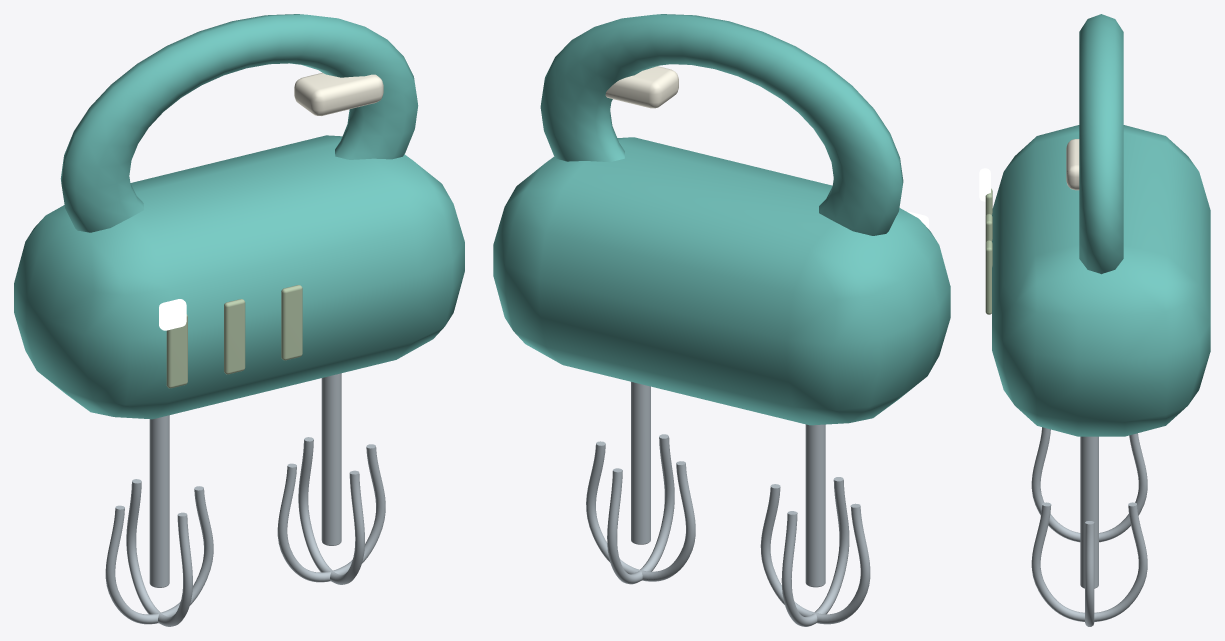
The model's file is kitchenMixerHand.glb.
3 renders of one model, left to right at view 1: azimuth 30°, elevation 25°; view 2: azimuth 150°, elevation 25°; view 3: azimuth 270°, elevation 25°, orthographic. The views are drawn at different scales.
Visible parts, largest first — view 1: Hand mixer motor housing, Mixer carry handle, Beater shaft, Beater shaft.001, Hand mixer speed switch, Beater loop.001, Beater loop.003, Beater loop.002, Beater loop, Mixer ventilation slot.001, Mixer ventilation slot.002, Mixer ventilation slot (+1 smaller); view 2: Hand mixer motor housing, Mixer carry handle, Beater shaft, Beater shaft.001, Beater loop.003, Beater loop.001, Beater loop.002, Beater loop, Hand mixer speed switch; view 3: Hand mixer motor housing, Mixer carry handle, Beater loop.003, Beater loop.001, Beater shaft.001, Beater loop.002, Hand mixer speed switch, Mixer ventilation slot.002, Interaction power LED.
Boxes of the visible parts, x1,y1,x2,y2 form: Hand mixer motor housing: (14,135,464,419); Mixer carry handle: (60,14,418,232); Beater shaft: (149,415,169,587); Beater shaft.001: (321,373,341,545); Hand mixer speed switch: (294,72,383,115); Beater loop.001: (126,479,192,626); Beater loop.003: (298,437,364,584); Beater loop.002: (277,444,385,582); Beater loop: (105,486,213,624); Mixer ventilation slot.001: (224,299,245,374); Mixer ventilation slot.002: (281,285,302,360); Mixer ventilation slot: (166,314,187,388); Hand mixer motor housing: (493,137,950,425); Mixer carry handle: (540,14,903,235); Beater shaft: (805,424,825,587); Beater shaft.001: (631,382,650,544); Beater loop.003: (607,434,674,584); Beater loop.001: (781,477,849,626); Beater loop.002: (586,441,695,581); Beater loop: (760,484,870,624); Hand mixer speed switch: (605,66,678,108); Hand mixer motor housing: (992,125,1210,436); Mixer carry handle: (1079,14,1123,274); Beater loop.003: (1031,502,1147,621); Beater loop.001: (1031,427,1147,542); Beater shaft.001: (1080,436,1098,588); Beater loop.002: (1085,521,1094,626); Hand mixer speed switch: (1066,139,1079,190); Mixer ventilation slot.002: (985,240,992,314); Interaction power LED: (979,168,990,201).
Bounding box in the file's own units: 0.56 × 0.7657 × 0.2965.
